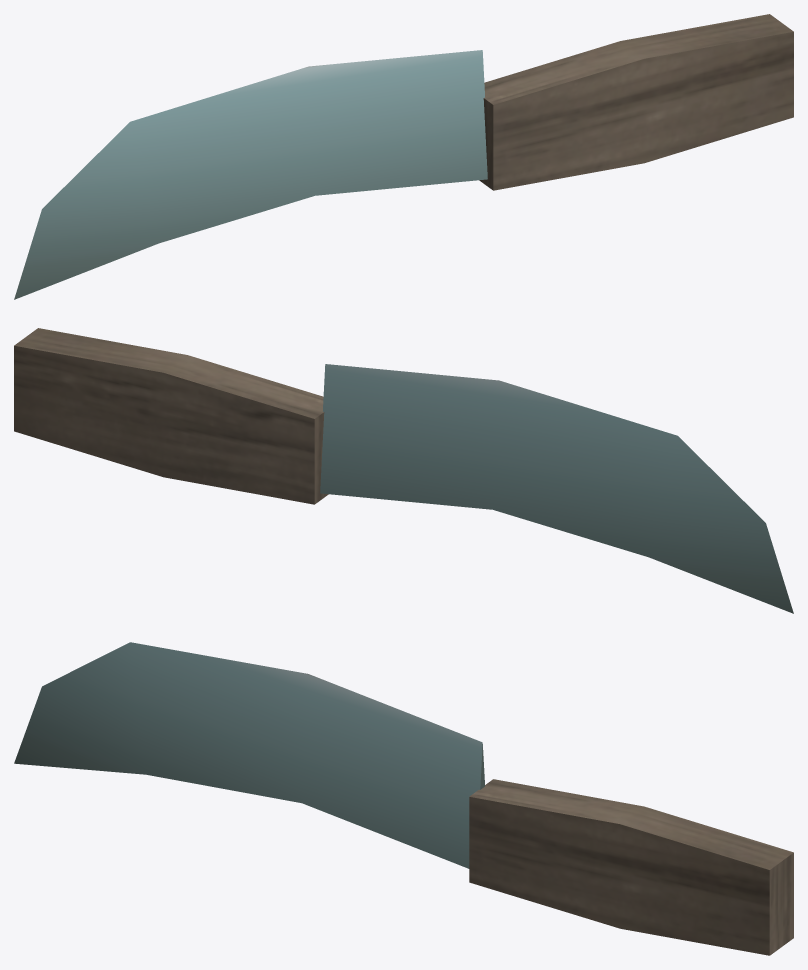
Rendered from Knife_A.fbx.
3 views of the same model, one above another, from view 1: azimuth 30°, elevation 25°; view 2: azimuth 150°, elevation 25°; view 3: azimuth 330°, elevation 25° (orthographic).
Parts seen in each view (by area): view 1: Knife_A; view 2: Knife_A; view 3: Knife_A.
Part boxes in pixels (x1,y1,x2,y2): Knife_A: [14, 14, 793, 299]; Knife_A: [14, 328, 793, 613]; Knife_A: [14, 642, 793, 955].
Size of the model in its own units: 1.05 by 0.2177 by 0.0572.
